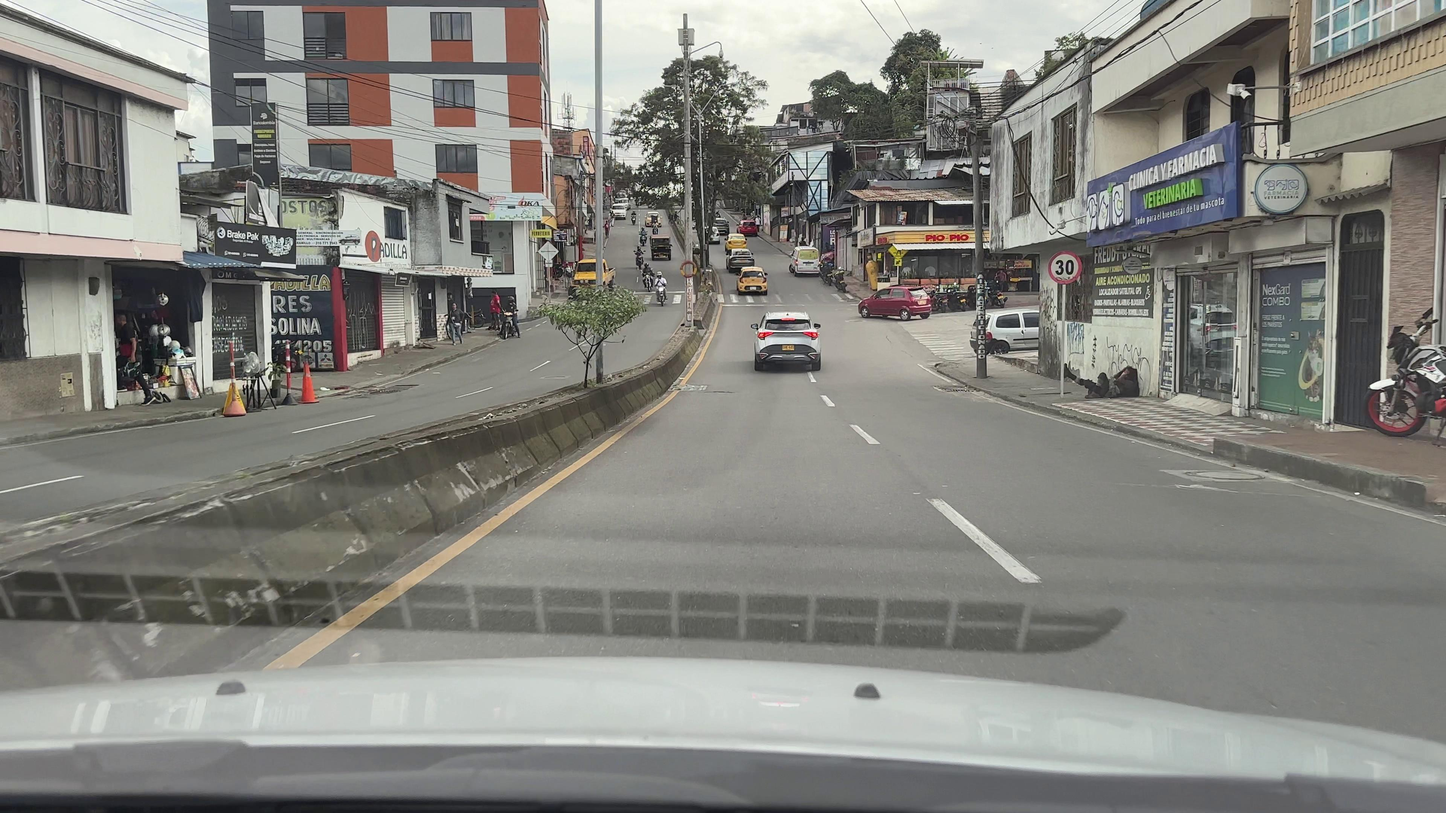registro: (1186, 471, 1265, 480)
rejilla: (934, 386, 980, 392), (671, 385, 704, 390)
